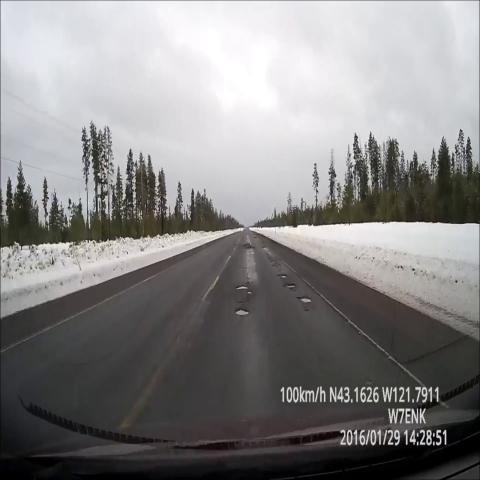pothole: (234, 273, 261, 298), (295, 285, 316, 317), (230, 302, 255, 326), (279, 278, 303, 298), (264, 253, 282, 272), (239, 236, 255, 254), (271, 271, 289, 284), (255, 240, 268, 254)
